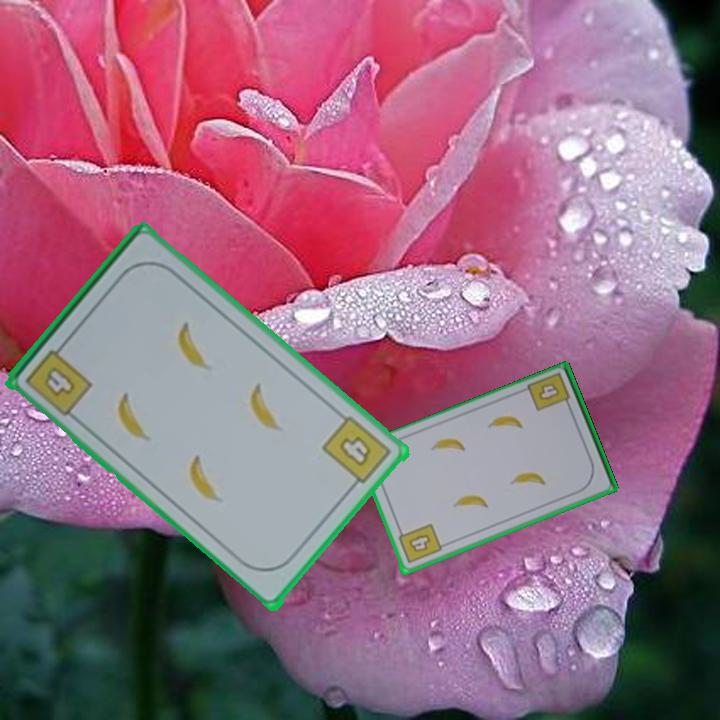4b: (319, 412, 395, 494), (22, 338, 96, 419), (394, 520, 444, 567), (534, 380, 563, 404)
